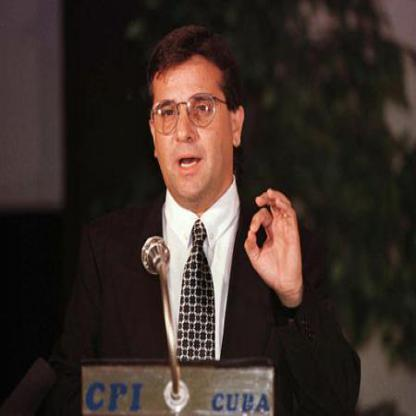face: (152, 29, 235, 203)
